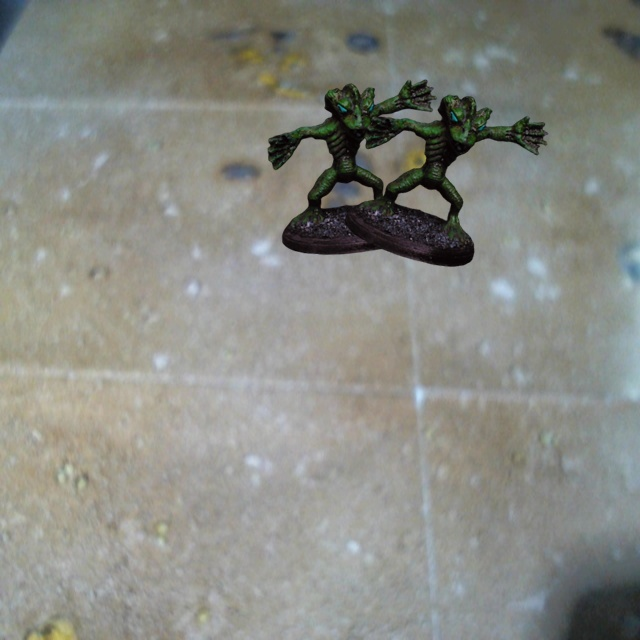pieza_juego: (345, 94, 547, 266), (267, 79, 436, 254)
